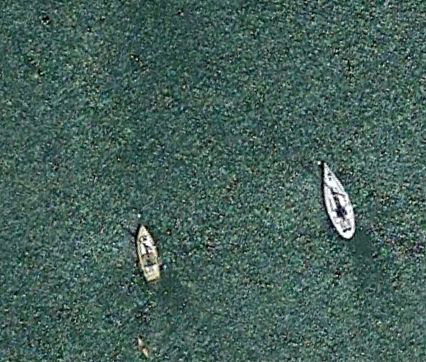boat: (319, 160, 357, 241), (132, 223, 162, 283)
